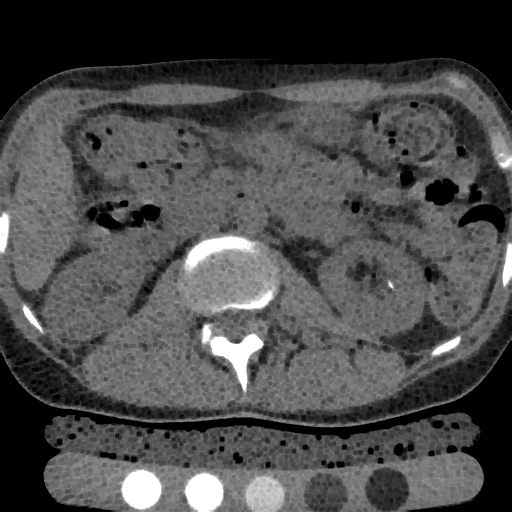Lesion: (384, 275, 395, 290)
